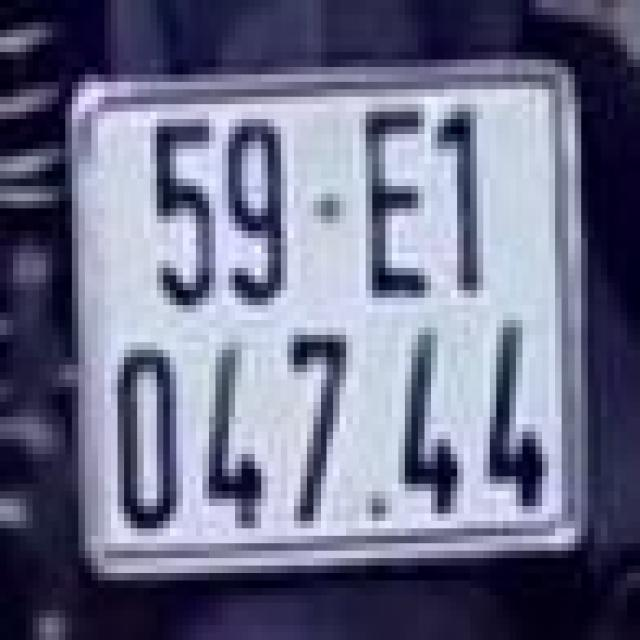0: (101, 331, 186, 540)
1: (437, 89, 503, 305)
4: (474, 309, 558, 510), (196, 331, 274, 547), (389, 323, 467, 524)
5: (147, 111, 225, 328)
7: (274, 312, 353, 536)
9: (225, 96, 304, 312)
E: (356, 89, 441, 313)
